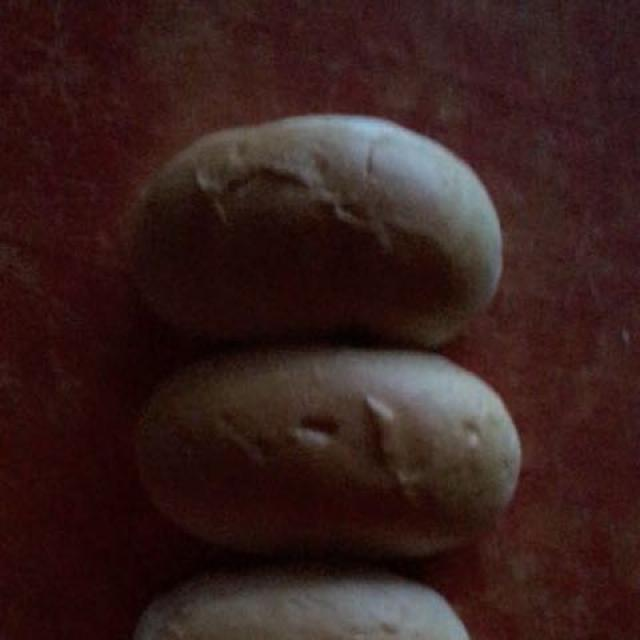bread-white: (122, 115, 519, 563)
